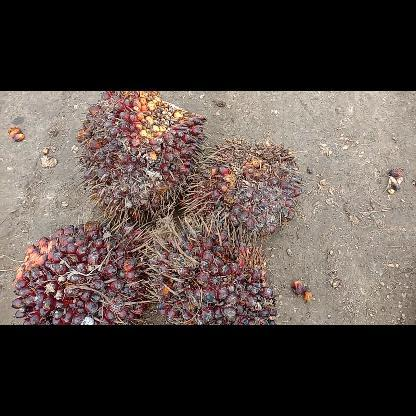TBS masak: (74, 91, 210, 223), (11, 220, 151, 324), (147, 212, 276, 324), (184, 142, 304, 236)
